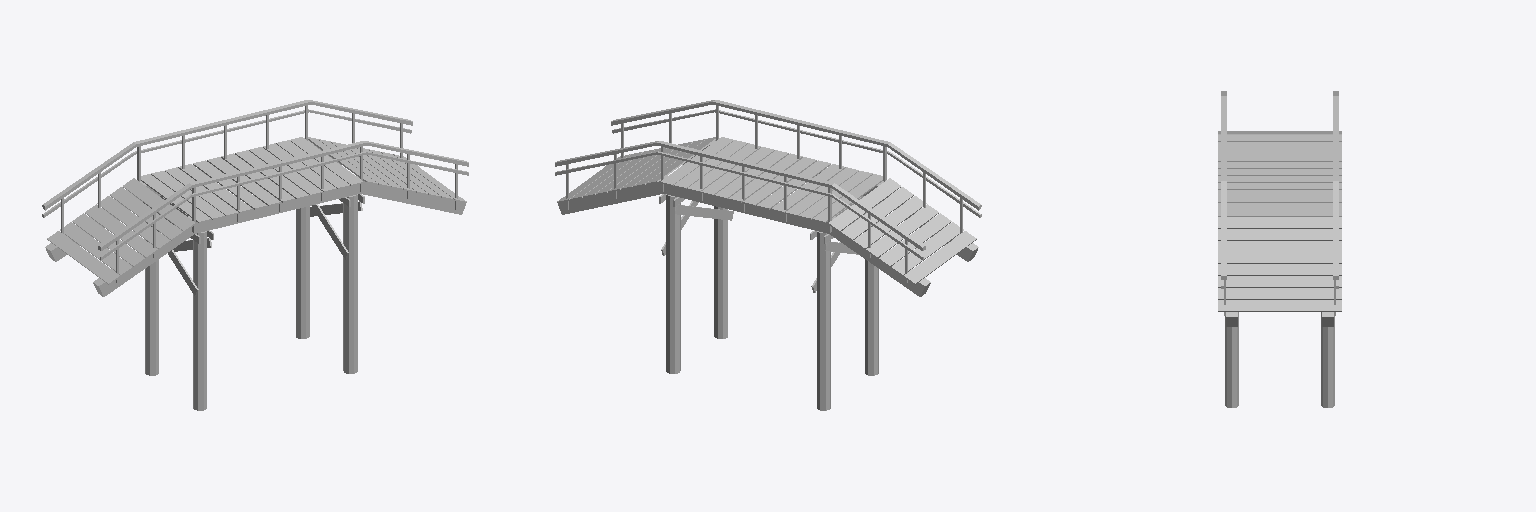
Rendered from wooden_bridge.obj.
3 renders of one model, left to right at view 1: azimuth 30°, elevation 25°; view 2: azimuth 150°, elevation 25°; view 3: azimuth 270°, elevation 25°, orthographic.
Parts seen in each view (by area): view 1: Cube.016; view 2: Cube.016; view 3: Cube.016.
Boxes of the visible parts, <box> form: Cube.016: <box>42,100,468,410</box>; Cube.016: <box>555,100,981,410</box>; Cube.016: <box>1218,91,1341,407</box>.
Bounding box in the file's own units: 8.68 × 5.18 × 2.52.